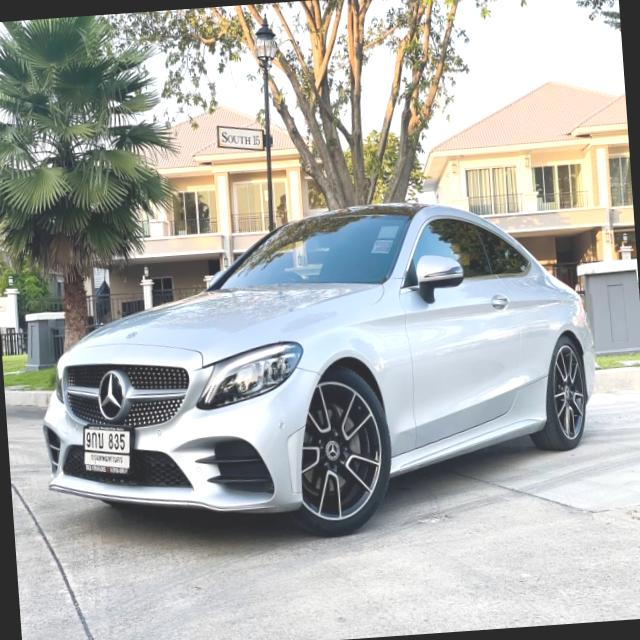license_plate: (80, 418, 139, 484)
